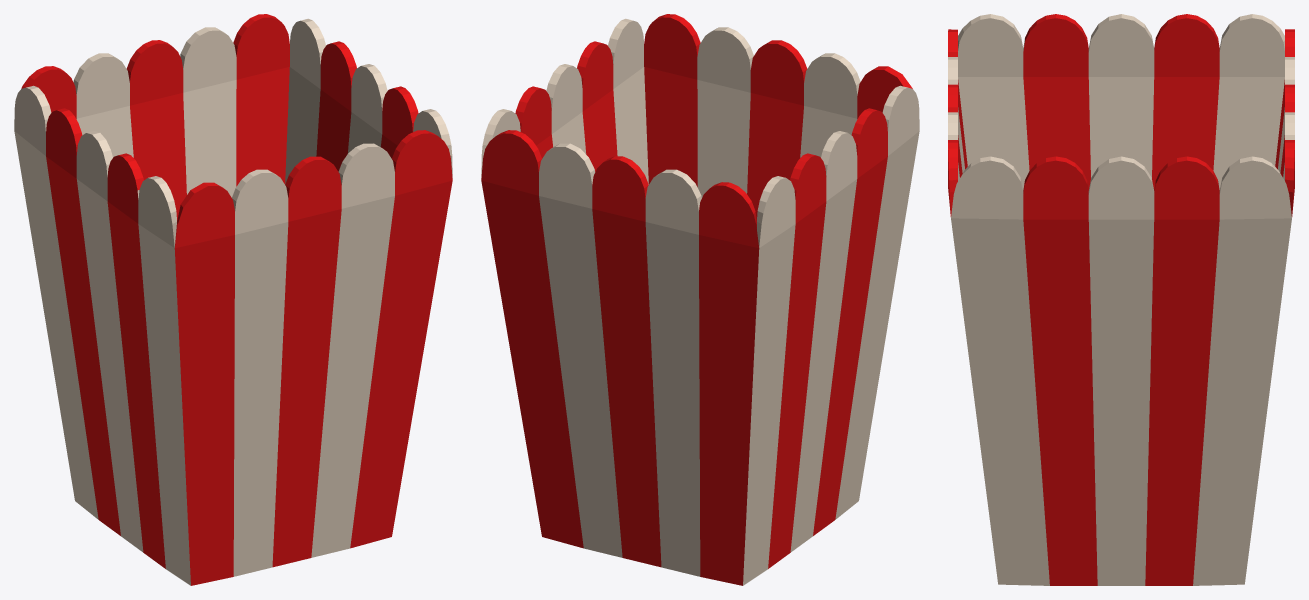
File: popcornbucket.fbx
3 views of the same model, side by side, from view 1: azimuth 30°, elevation 25°; view 2: azimuth 150°, elevation 25°; view 3: azimuth 270°, elevation 25° (orthographic). The views are drawn at different scales.
Parts seen in each view (by area): view 1: LÅDA; view 2: LÅDA; view 3: LÅDA.
Part boxes in pixels (<box>): LÅDA: <box>14,14,452,585</box>; LÅDA: <box>481,14,919,585</box>; LÅDA: <box>948,14,1294,585</box>.
Size of the model in its own units: 197 by 280 by 197.
